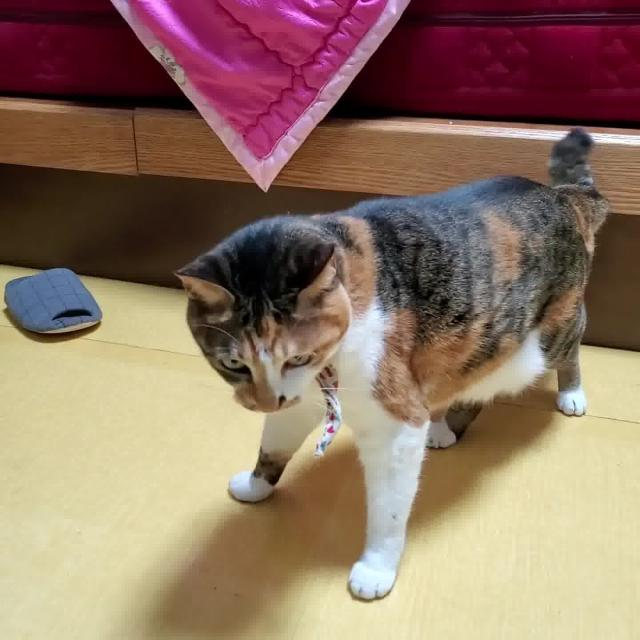cat: (165, 126, 614, 602)
